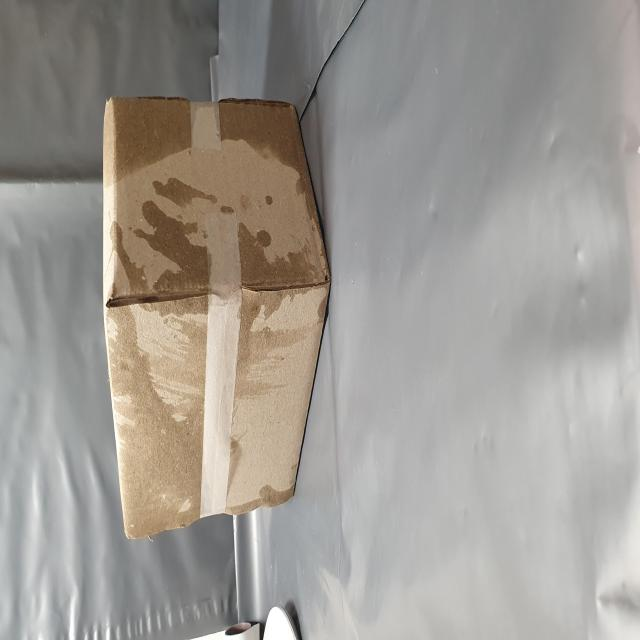wet: (56, 200, 308, 368), (147, 418, 306, 577)
